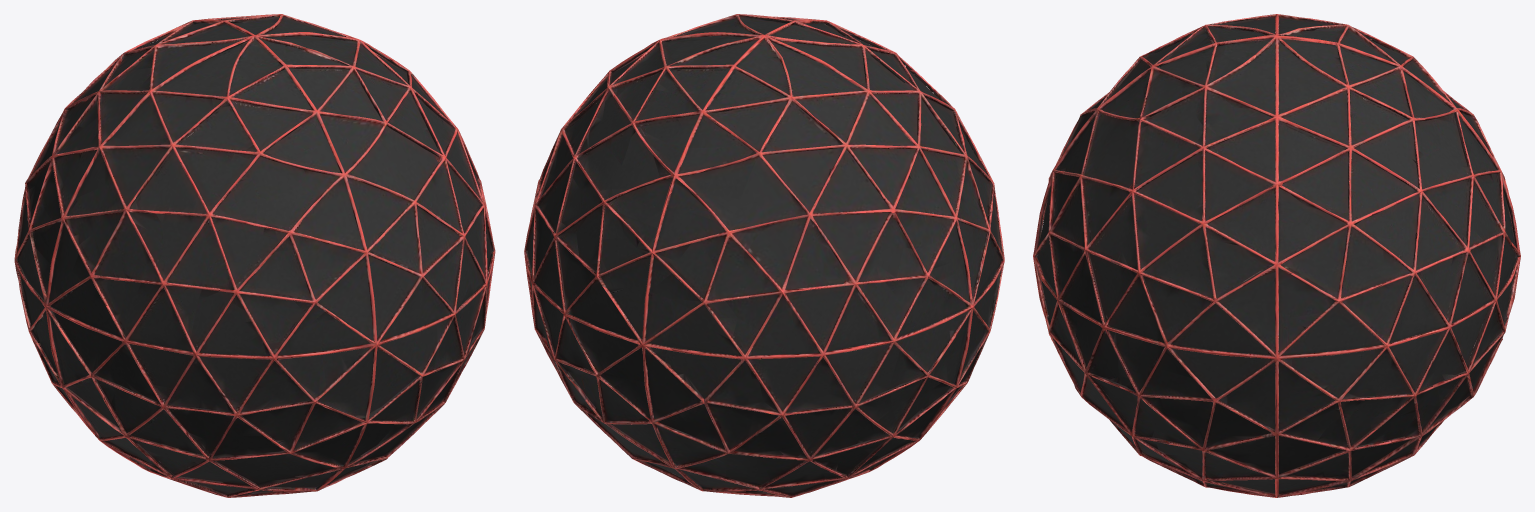
Rendered from EsferaRoja.glb.
3 views of the same model, side by side, from view 1: azimuth 30°, elevation 25°; view 2: azimuth 150°, elevation 25°; view 3: azimuth 270°, elevation 25° (orthographic).
Visible parts, largest first — view 1: tripo_node_fd111882-034e-4abb-89e3-f261dd9765ac; view 2: tripo_node_fd111882-034e-4abb-89e3-f261dd9765ac; view 3: tripo_node_fd111882-034e-4abb-89e3-f261dd9765ac.
Boxes of the visible parts, <box> form: tripo_node_fd111882-034e-4abb-89e3-f261dd9765ac: <box>14,14,495,497</box>; tripo_node_fd111882-034e-4abb-89e3-f261dd9765ac: <box>524,14,1004,497</box>; tripo_node_fd111882-034e-4abb-89e3-f261dd9765ac: <box>1033,14,1520,497</box>.
Bounding box in the file's own units: 0.9725 × 0.9806 × 0.9807.
Materials: 1 (1 with a texture image).
